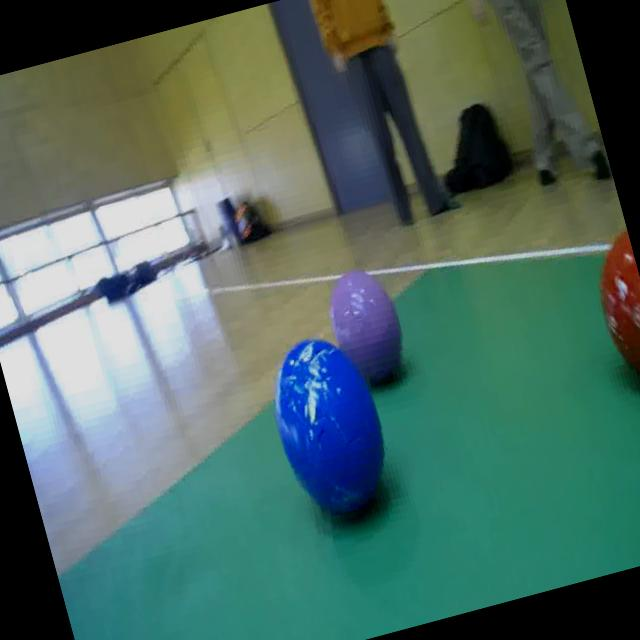blue_ball: (262, 330, 400, 520)
purple_ball: (322, 264, 412, 391)
red_ball: (581, 224, 640, 400)
